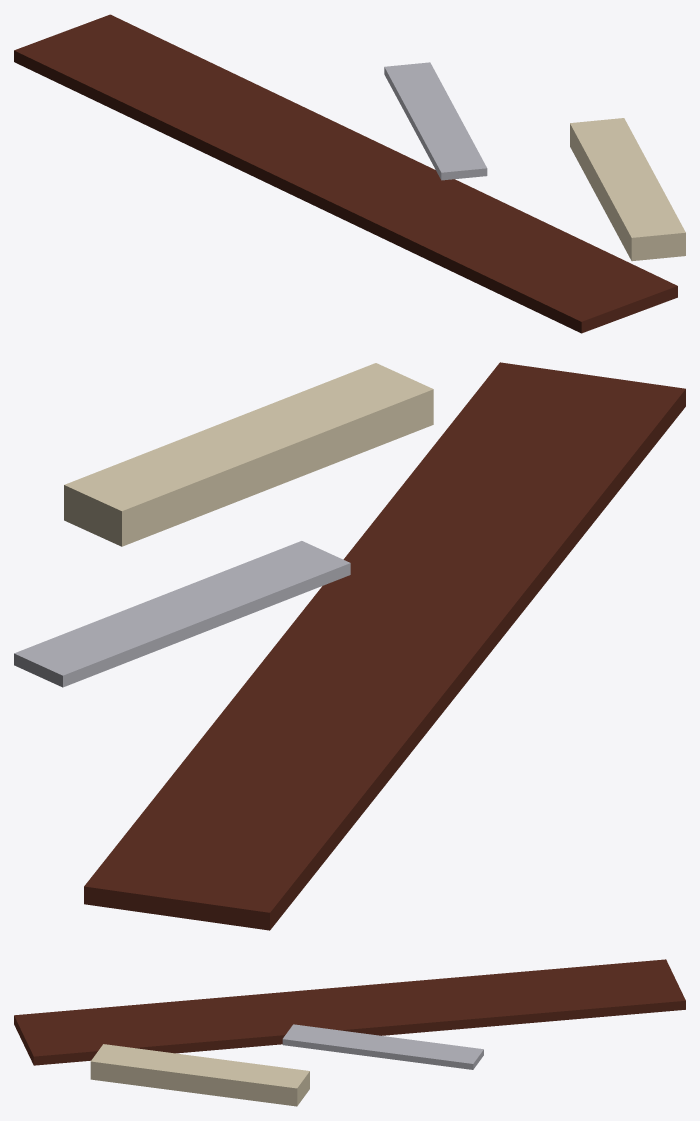
Rendered from TownFind_barber.glb.
3 renders of one model, top to bottom at view 1: azimuth 30°, elevation 25°; view 2: azimuth 150°, elevation 25°; view 3: azimuth 270°, elevation 25°, orthographic. The views are drawn at different scales.
Parts seen in each view (by area): view 1: TownFind_barber.001; view 2: TownFind_barber.001; view 3: TownFind_barber.001.
Boxes of the visible parts, x1,y1,x2,y2 form: TownFind_barber.001: (14, 14, 685, 333); TownFind_barber.001: (14, 362, 685, 930); TownFind_barber.001: (14, 959, 685, 1106).
Size of the model in its own units: 0.2008 by 0.014 by 0.4039.
